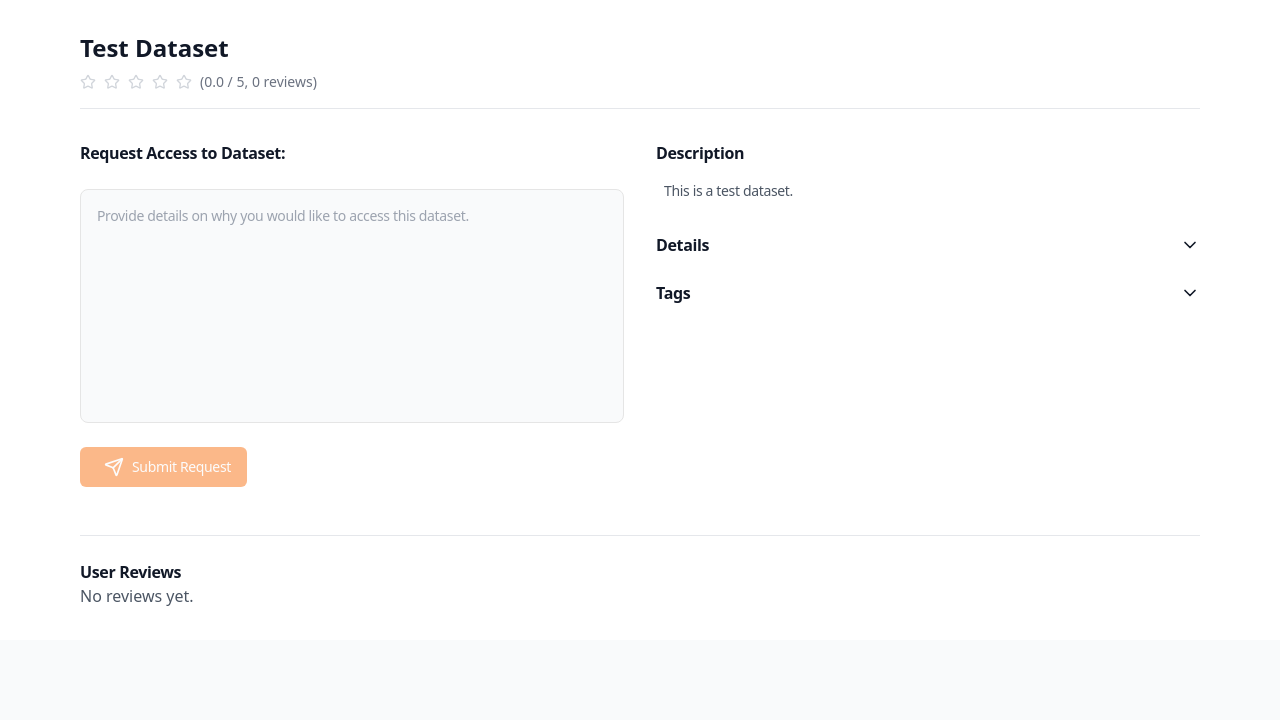
it: DatasetDetail › submits a request successfully
Expected: the heading "Test Dataset" is shown, [80,31,229,64]
Replace the text in the text box with placeholder "Provide details on why you would like to access this dataset." with "For research purposes" at (352, 306), box [80,189,624,423]
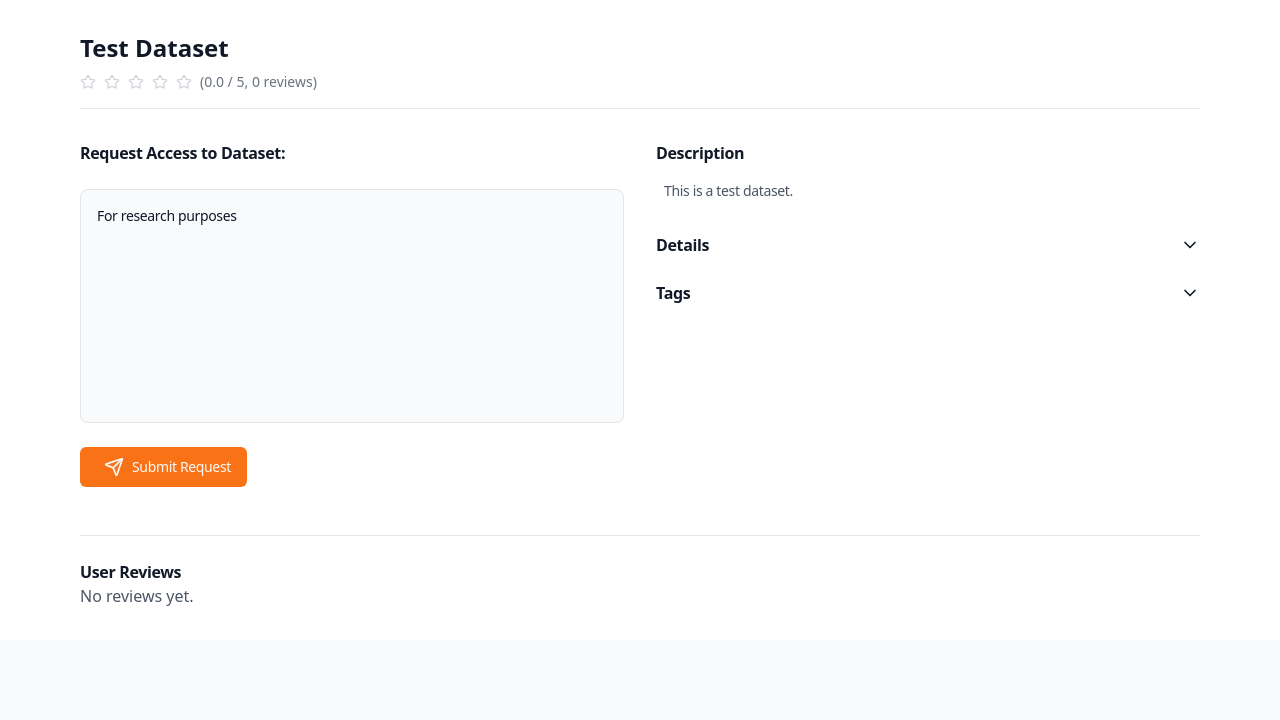
Click the button "Submit Request".
click(164, 467)  # box [80,447,247,487]
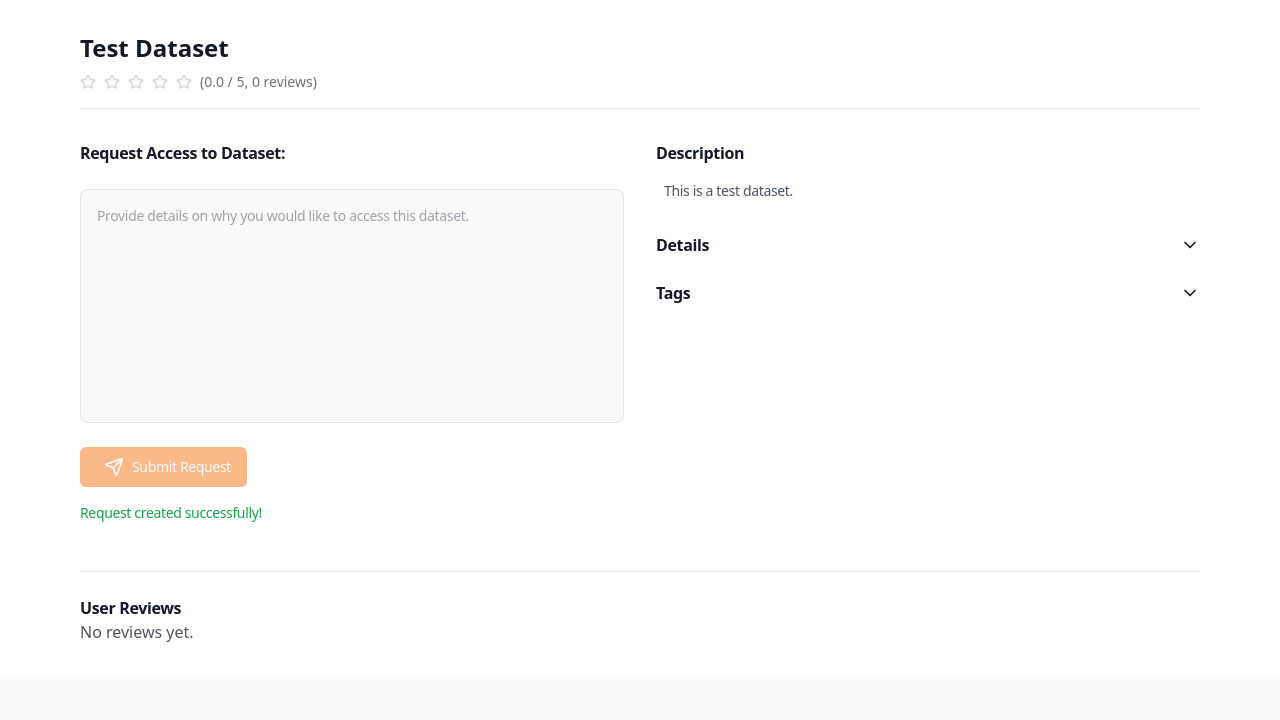
Now the text "Request created successfully!" is shown, box [80,503,262,522]
Now the text box with placeholder "Provide details on why you would like to access this dataset." is empty, box [80,189,624,423]
